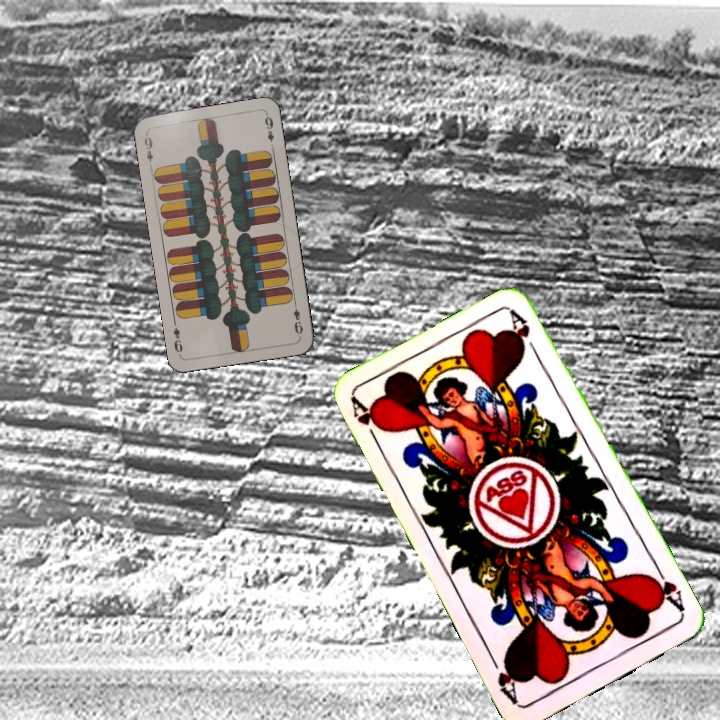E9: (140, 130, 156, 170), (289, 298, 305, 337)
HA: (644, 562, 688, 616), (347, 394, 387, 450)
